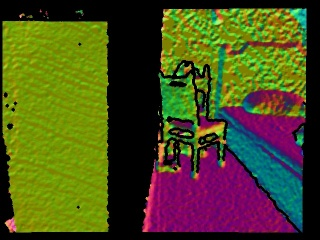station: (153, 138, 181, 174)
